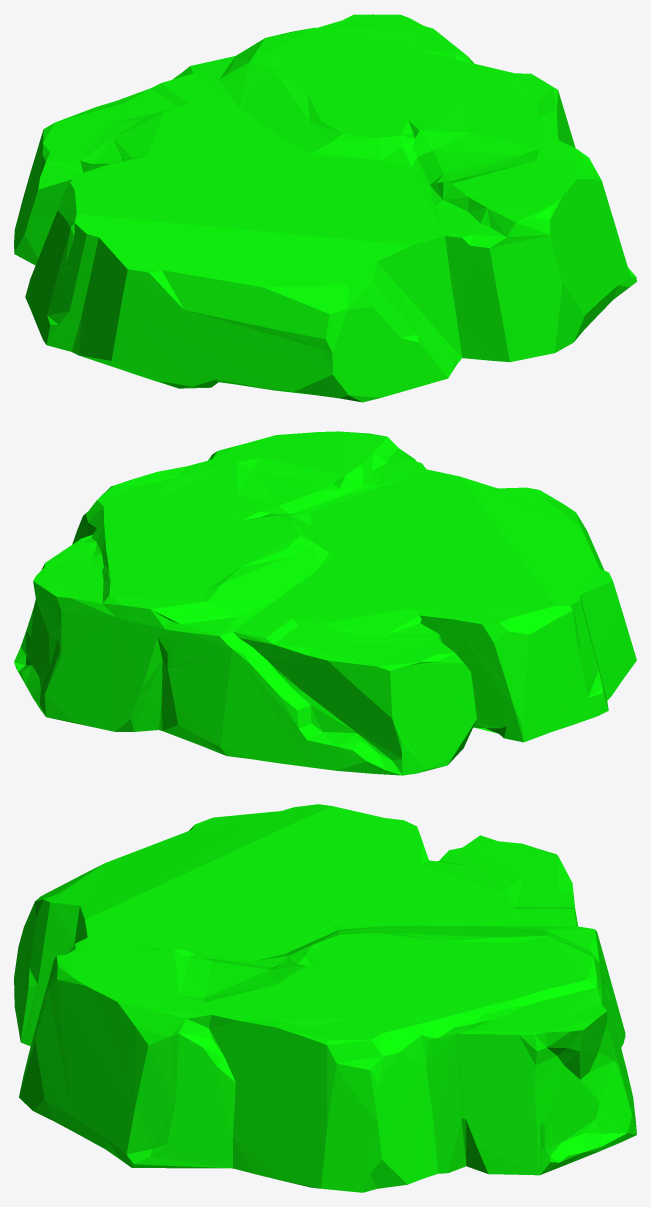
File: SM_Iceberg_Medium_A_Rock.fbx
3 renders of one model, top to bottom at view 1: azimuth 30°, elevation 25°; view 2: azimuth 150°, elevation 25°; view 3: azimuth 270°, elevation 25°, orthographic. The views are drawn at different scales.
Visible parts, largest first — view 1: SM_Iceberg_Medium_A_Rock; view 2: SM_Iceberg_Medium_A_Rock; view 3: SM_Iceberg_Medium_A_Rock.
Boxes of the visible parts, <box> form: SM_Iceberg_Medium_A_Rock: <box>14,14,636,402</box>; SM_Iceberg_Medium_A_Rock: <box>14,431,636,775</box>; SM_Iceberg_Medium_A_Rock: <box>14,804,636,1192</box>.
Bounding box in the file's own units: 9.34 × 2.17 × 8.5.
